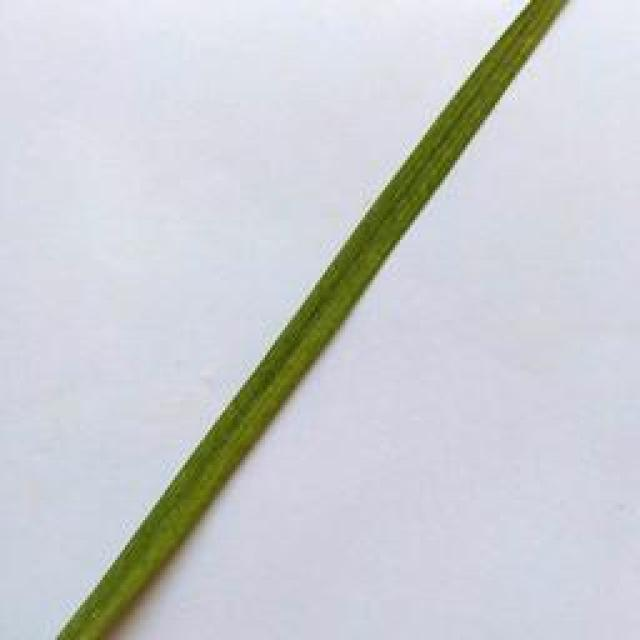Healthy-Plant: (60, 0, 570, 640)
